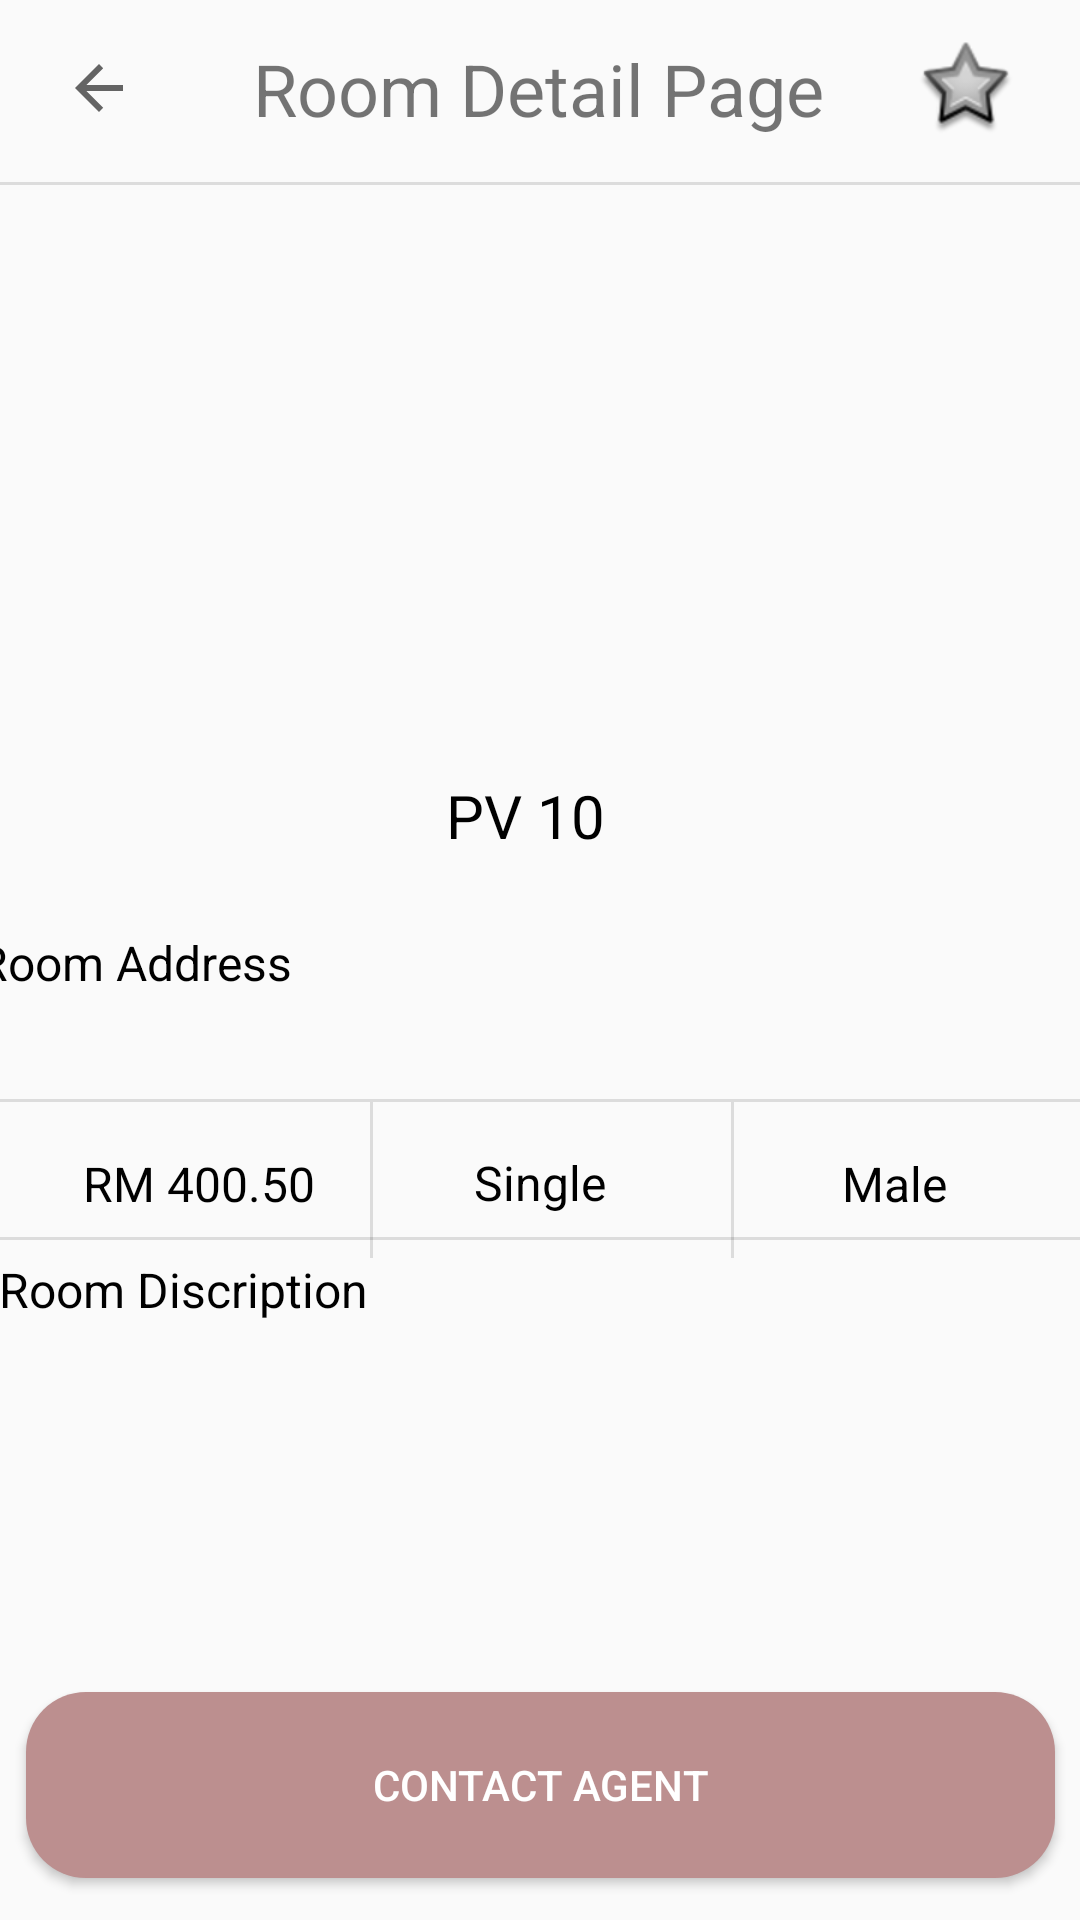

Named icons in this screenshot (1080x1920) and their centers, (x=x, y=y):
star off: (x=965, y=85)
